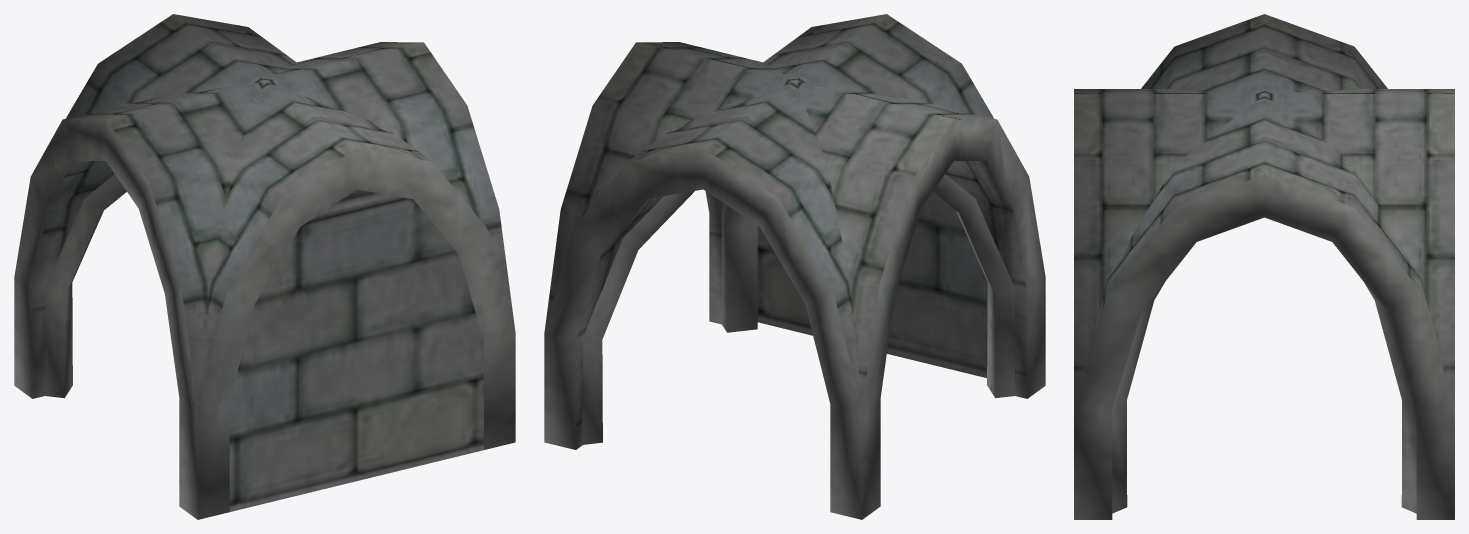
Rendered from sd_vault_ceiling_small_02.glb.
3 views of the same model, side by side, from view 1: azimuth 30°, elevation 25°; view 2: azimuth 150°, elevation 25°; view 3: azimuth 270°, elevation 25° (orthographic). The views are drawn at different scales.
Visible parts, largest first — view 1: vault_ceiling_small_02; view 2: vault_ceiling_small_02; view 3: vault_ceiling_small_02.
Boxes of the visible parts, x1,y1,x2,y2 form: vault_ceiling_small_02: (14, 14, 515, 519); vault_ceiling_small_02: (544, 14, 1045, 519); vault_ceiling_small_02: (1074, 14, 1454, 519).
Bounding box in the file's own units: 2 × 2 × 2.
1 material, 1 textured.
